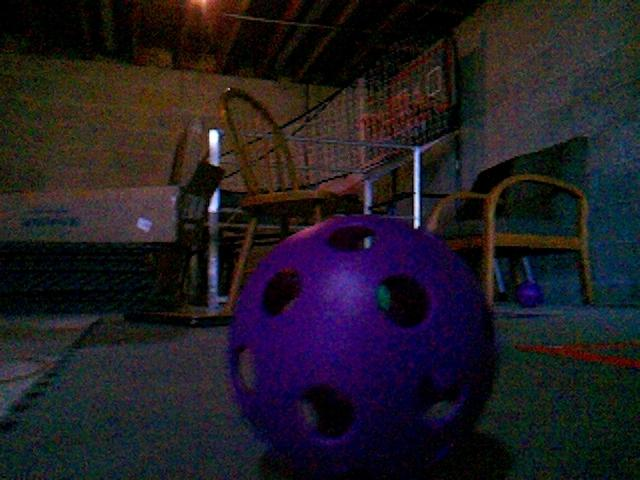Purple: (228, 218, 493, 476), (513, 278, 545, 308)
